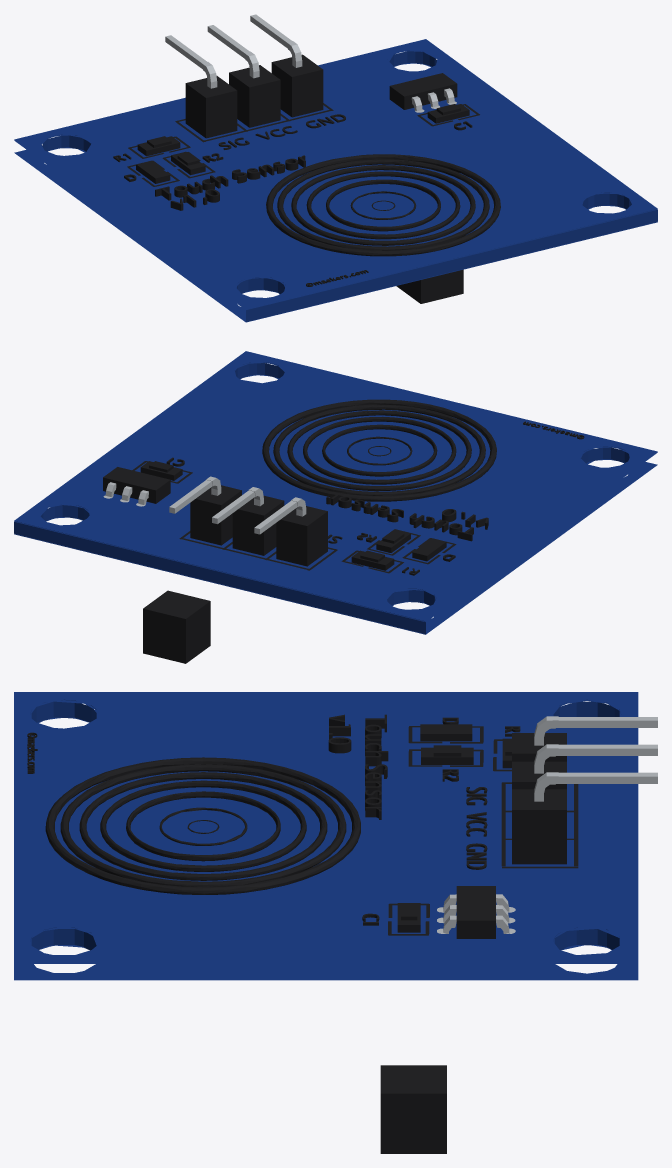
Rendered from touch-sensor.glb.
The picture shows the model from 3 angles, top to bottom: view 1: azimuth 30°, elevation 25°; view 2: azimuth 150°, elevation 25°; view 3: azimuth 270°, elevation 25°; orthographic projection. The views are drawn at different scales.
Visible parts, largest first — view 1: part_9, part_0, part_4; view 2: part_9, part_0, part_4; view 3: part_9, part_0, part_4.
Part boxes in pixels (bbox=[...]): part_9: bbox=[14, 39, 657, 322]; part_0: bbox=[113, 54, 500, 303]; part_4: bbox=[165, 14, 456, 112]; part_9: bbox=[14, 351, 657, 634]; part_0: bbox=[103, 399, 584, 663]; part_4: bbox=[103, 476, 306, 534]; part_9: bbox=[14, 692, 638, 980]; part_0: bbox=[27, 714, 578, 1153]; part_4: bbox=[437, 716, 657, 933].
Bounding box in the file's own units: 9.61 × 5.12 × 9.67.
